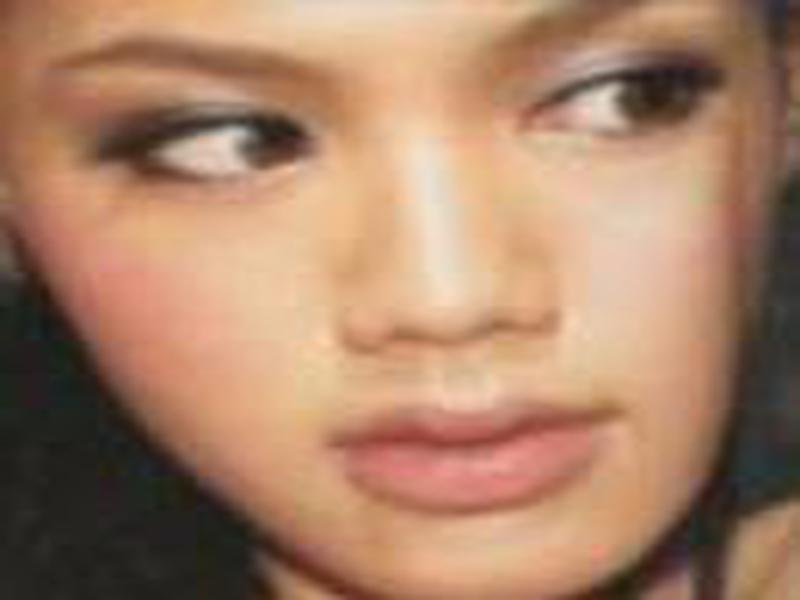without_mask: (16, 4, 766, 595)
